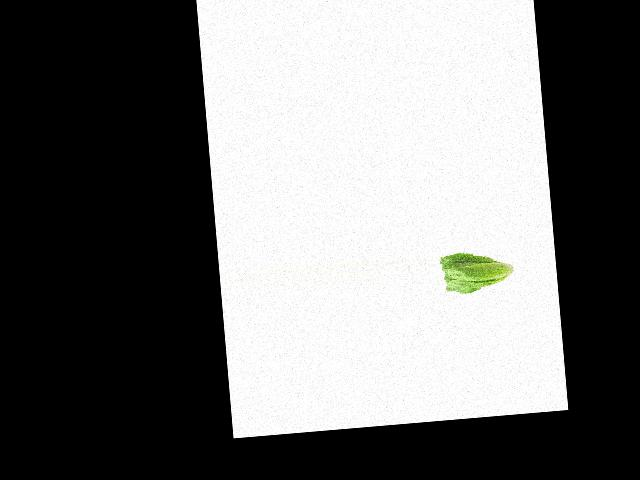lettuce: (439, 246, 515, 300)
